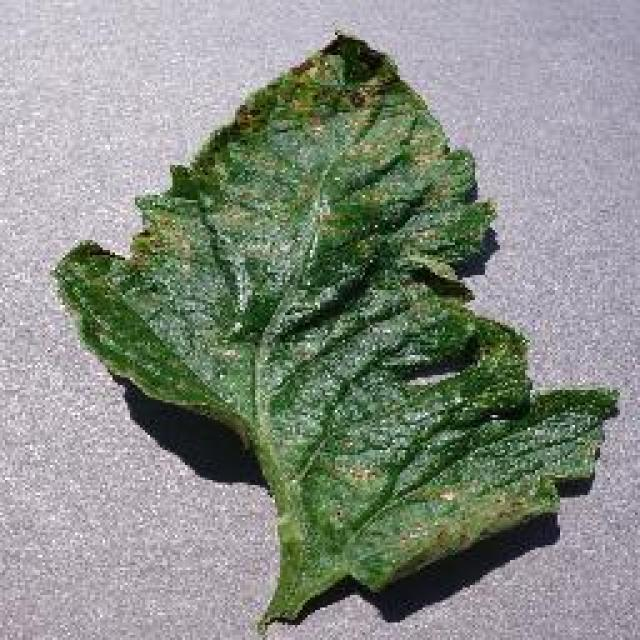Tomato target spot leaf: (55, 29, 623, 626)
